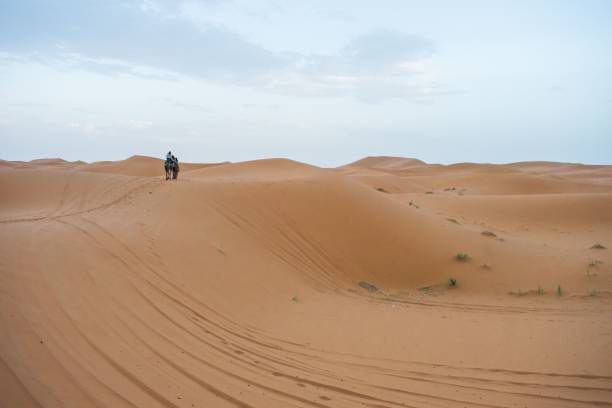vehicle_track: (84, 221, 609, 405), (0, 178, 161, 223)
